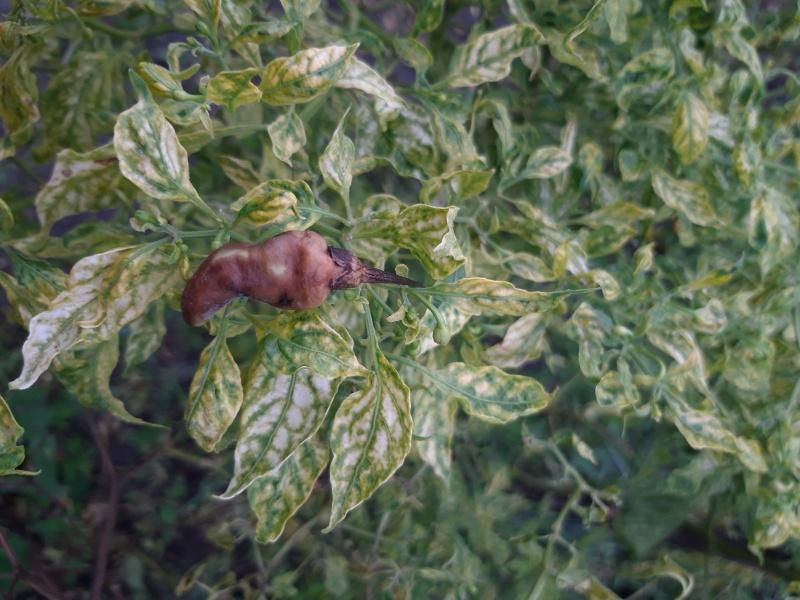antraknosa: (178, 231, 363, 330)
